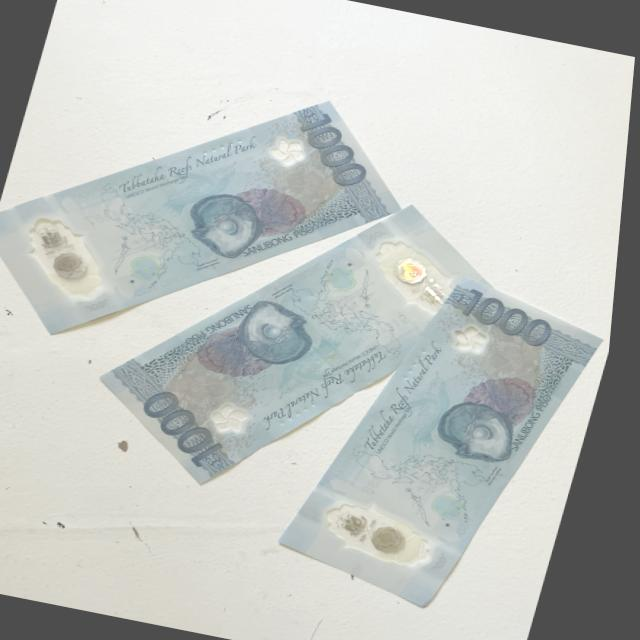clear_window: (321, 491, 461, 572), (4, 212, 129, 302), (365, 232, 473, 312)
sampaguita: (450, 320, 511, 358), (206, 396, 262, 436), (269, 133, 316, 171)
value: (293, 109, 387, 189)
